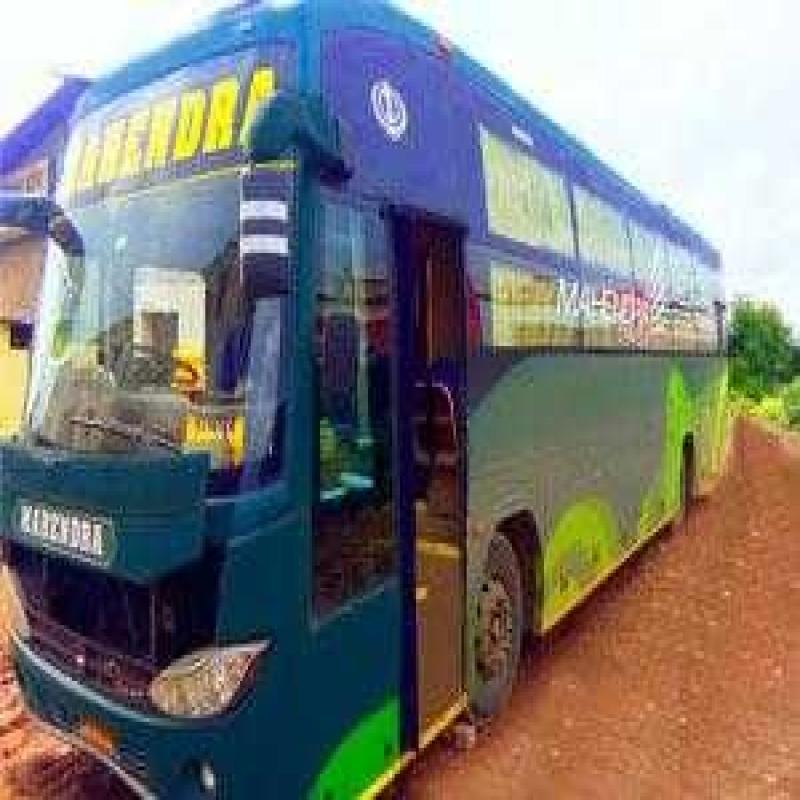bus: (26, 23, 758, 774)
